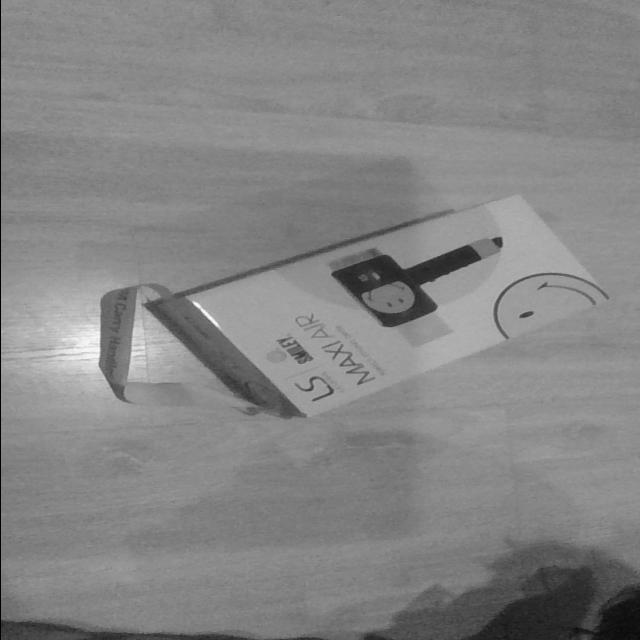Dryer: (142, 192, 612, 420)
